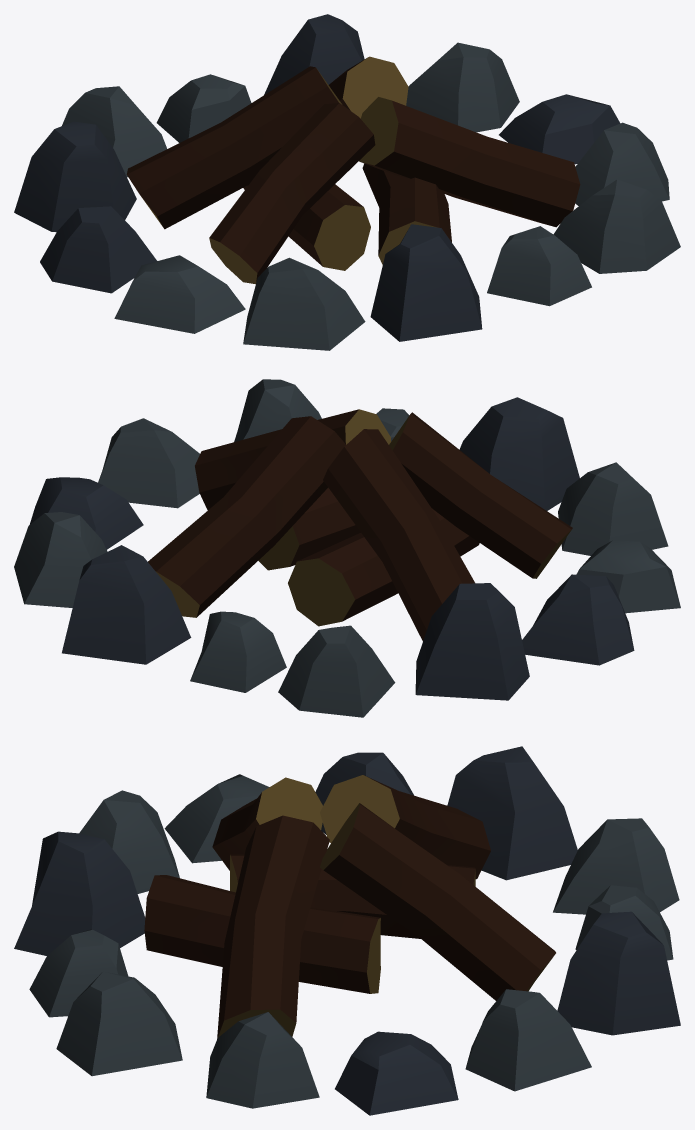
Rendered from Campfire.obj.
The picture shows the model from 3 angles, top to bottom: view 1: azimuth 30°, elevation 25°; view 2: azimuth 150°, elevation 25°; view 3: azimuth 270°, elevation 25°; orthographic projection. The views are drawn at different scales.
Parts seen in each view (by area): view 1: Bonfire; view 2: Bonfire; view 3: Bonfire.
Boxes of the visible parts, x1,y1,x2,y2 form: Bonfire: (14,14,680,350); Bonfire: (14,379,680,717); Bonfire: (14,746,680,1115).
Bounding box in the file's own units: 0.4066 × 0.1122 × 0.3624.
